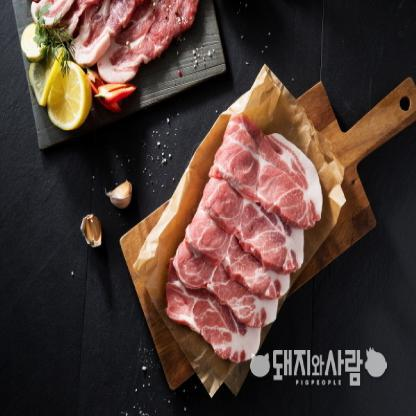pork: (160, 118, 302, 348), (32, 0, 196, 80)
